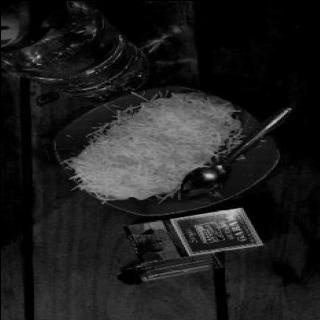objects: (122, 207, 262, 262)
